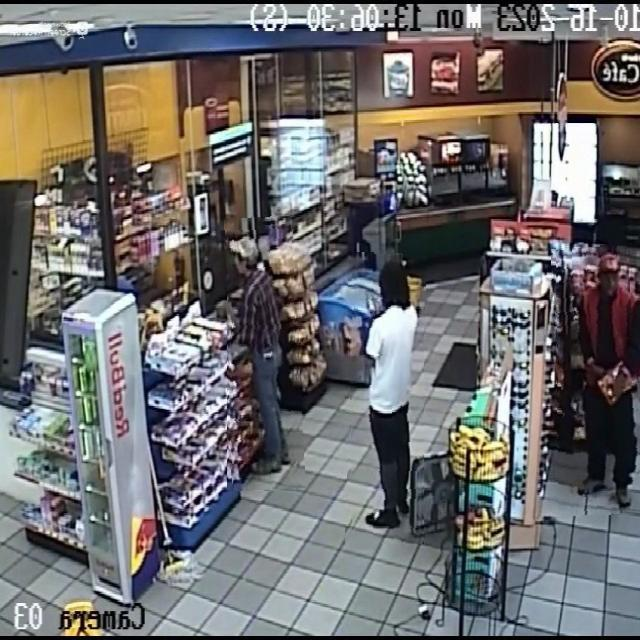Normal: (556, 245, 640, 515), (348, 252, 424, 544), (227, 216, 302, 491)
